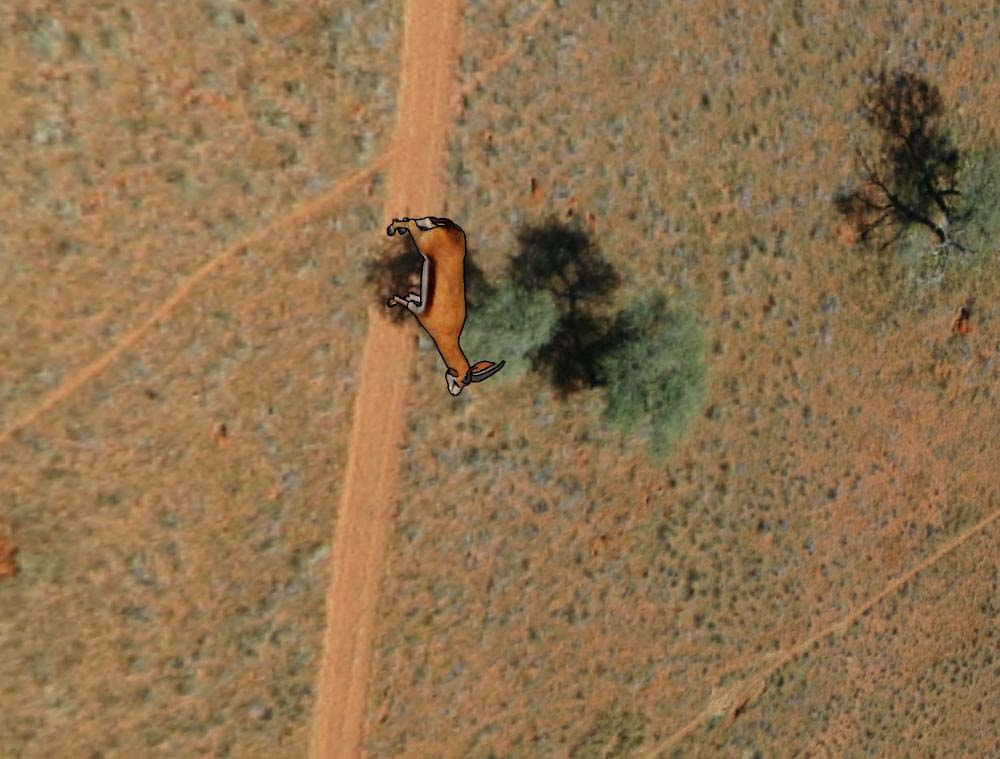springbok: (376, 205, 508, 404)
